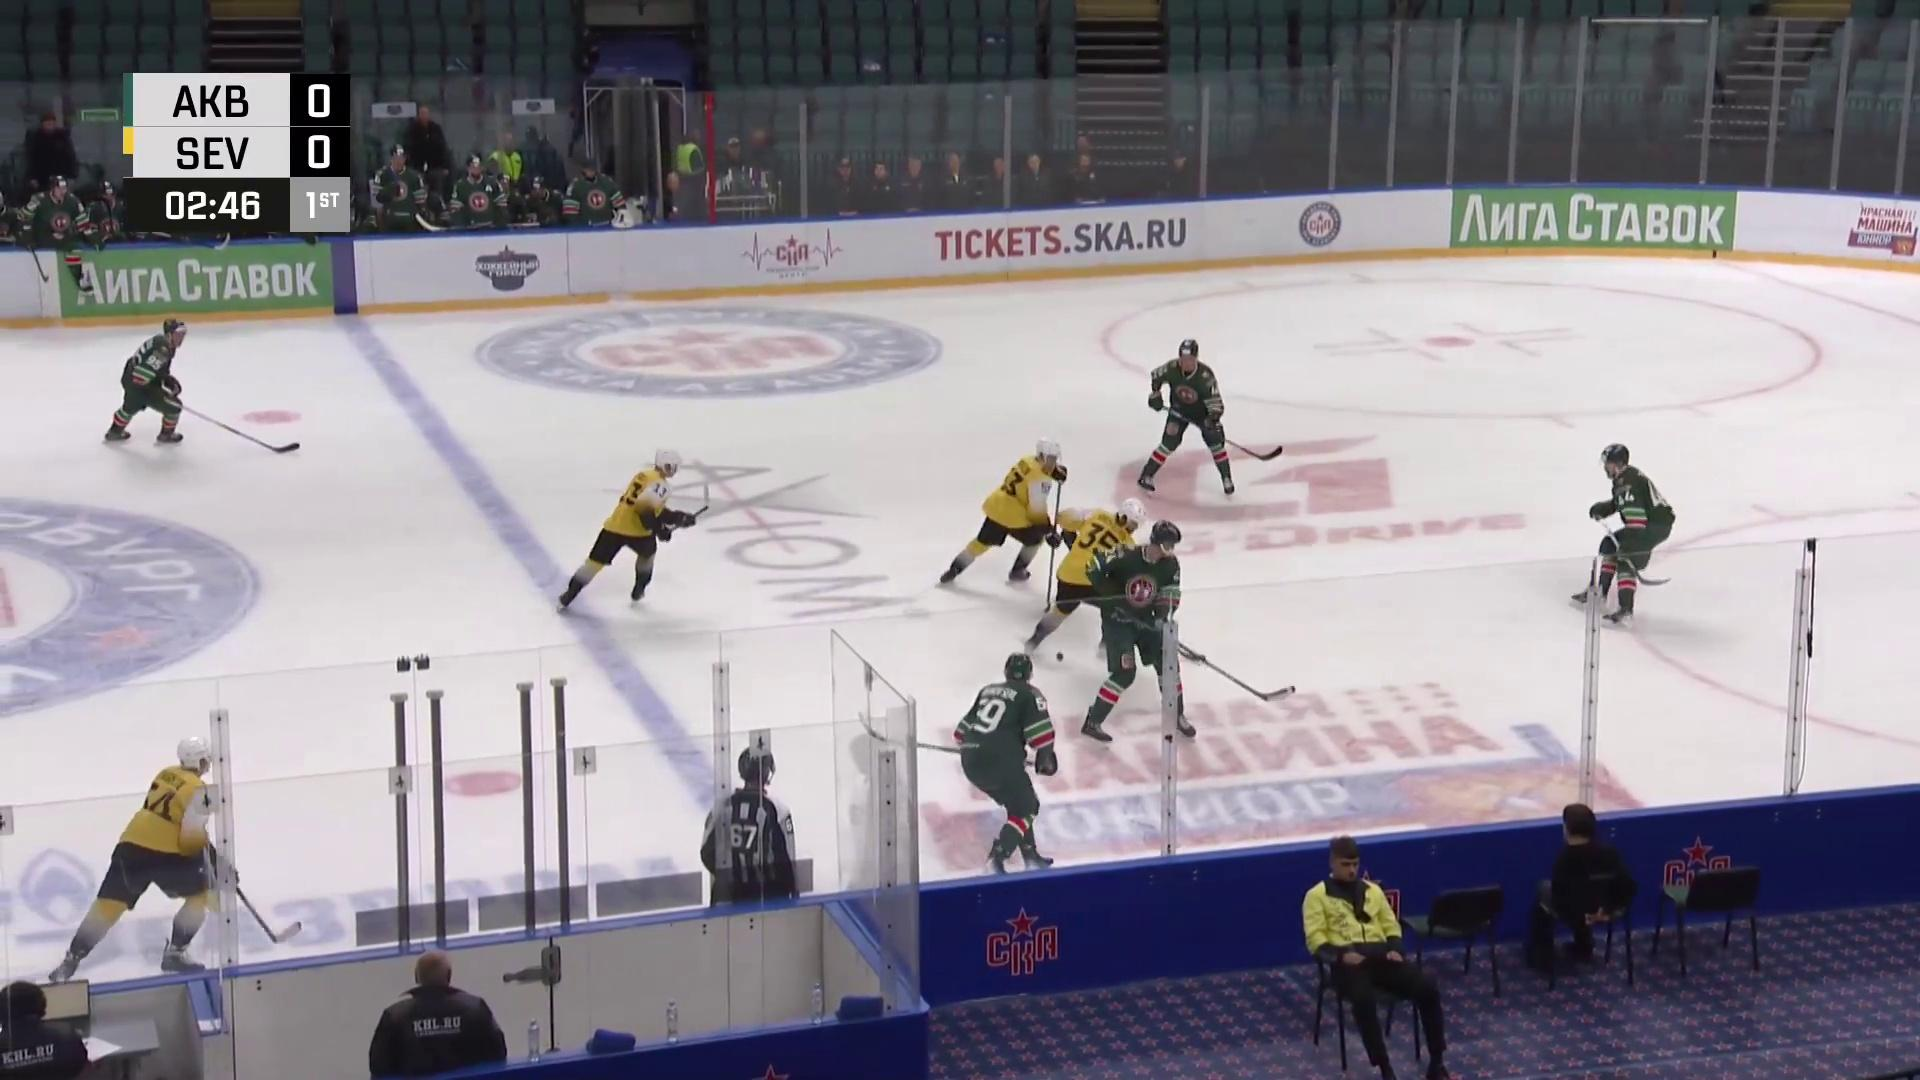ball: (1056, 653, 1064, 663)
